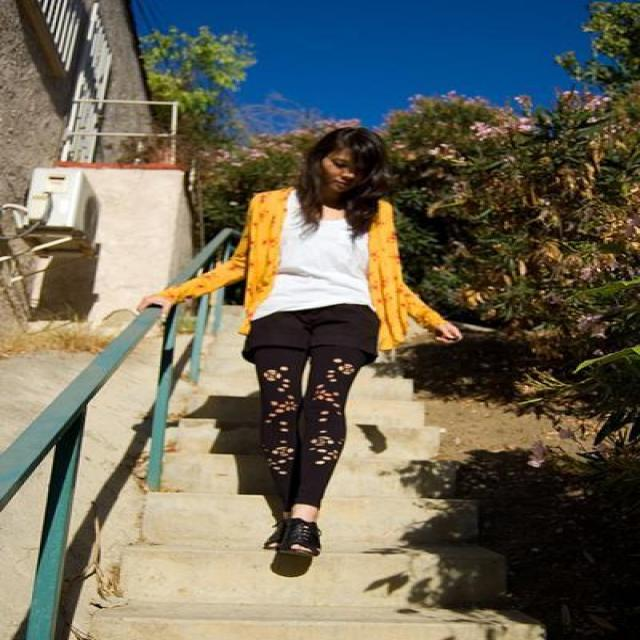jacket: (156, 186, 438, 360)
pants: (264, 525, 320, 576)
shirt: (253, 192, 374, 318)
